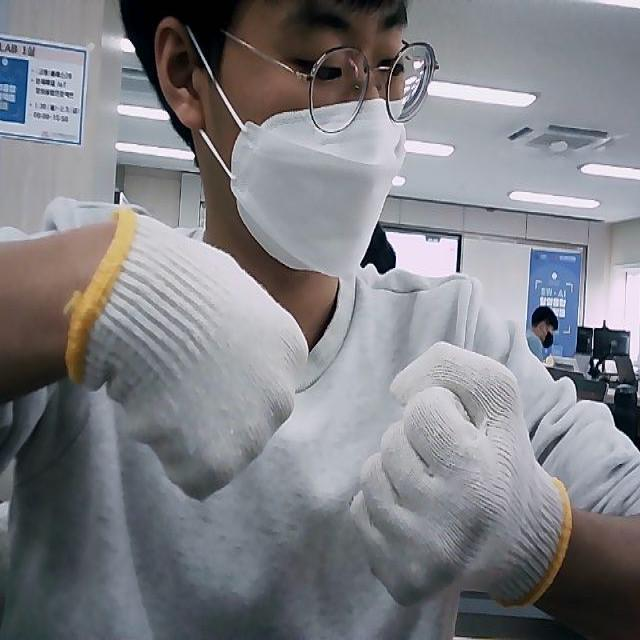GLOVE: (68, 210, 308, 494), (348, 341, 572, 607)
